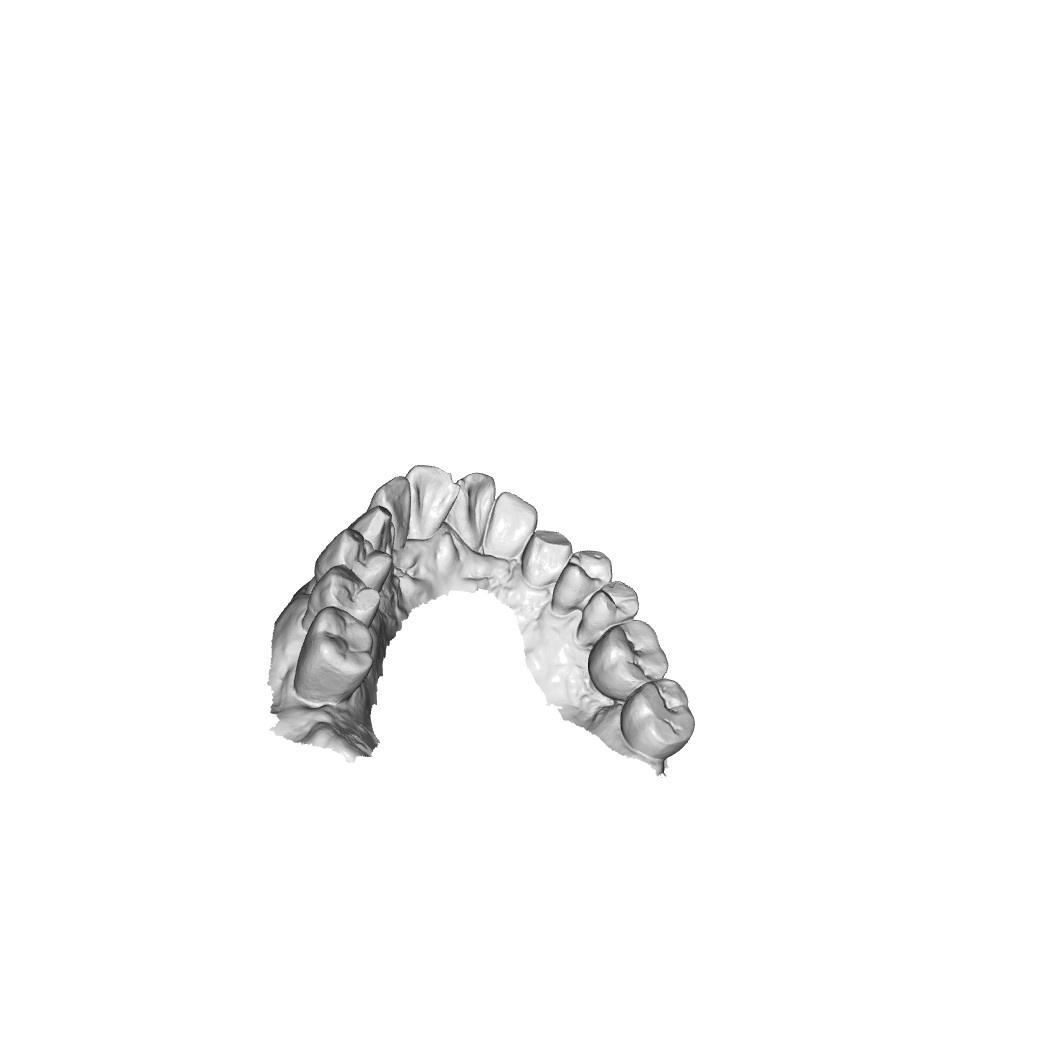canine: (520, 530, 571, 587), (348, 507, 393, 553)
incisor: (480, 491, 540, 562), (405, 463, 458, 539), (451, 474, 497, 547), (370, 477, 415, 548)
molar: (294, 605, 375, 706), (585, 616, 671, 701), (620, 677, 697, 756)
premolar: (316, 528, 395, 589), (310, 564, 384, 629), (556, 546, 612, 614), (579, 584, 642, 641)
